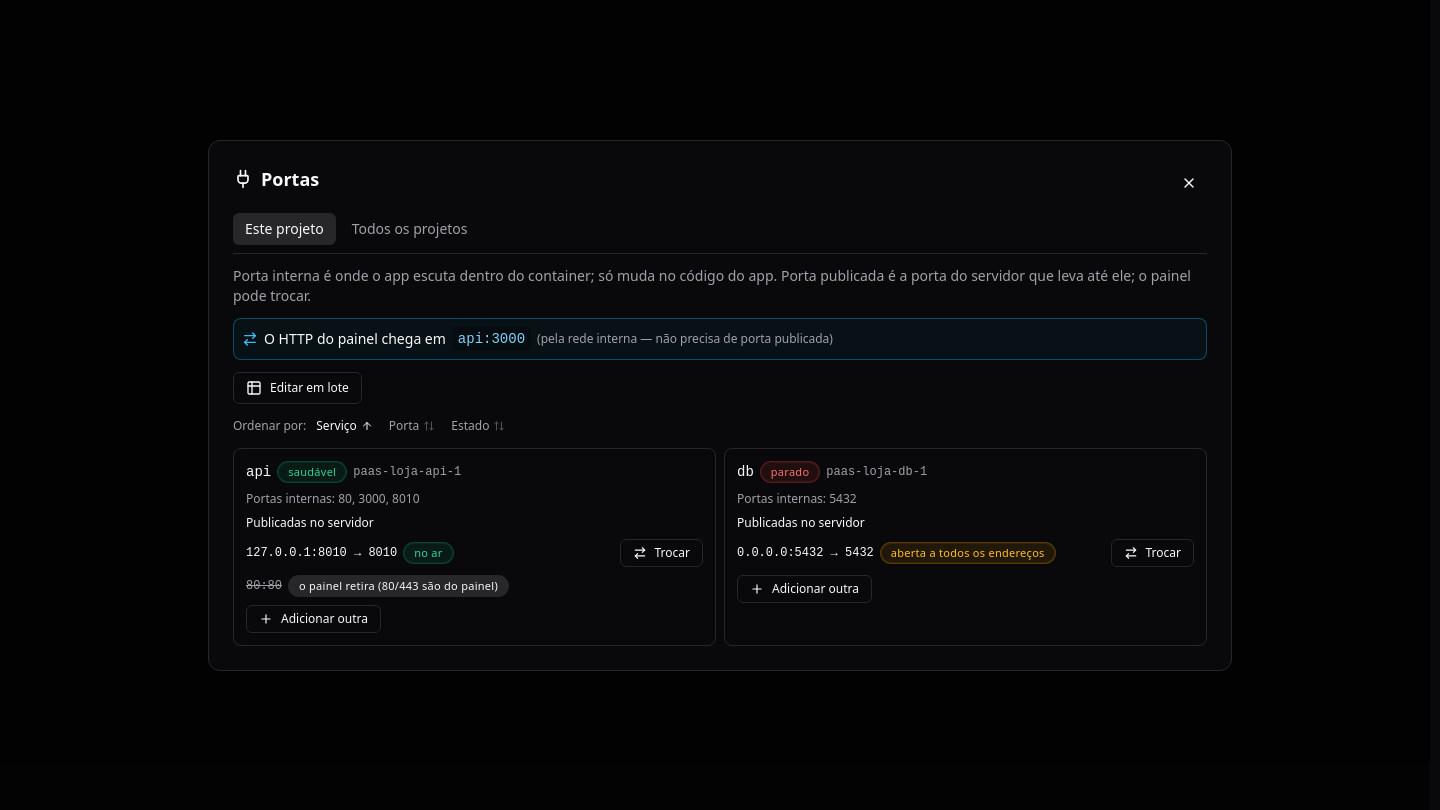
Test case: aba Todos os projetos › ordenação salva é usada ao abrir
Expected: the list item with test id "port-service-api" is shown, [233, 448, 716, 646]
Click the tab "Todos os projetos" at (410, 228), box [340, 212, 480, 244]
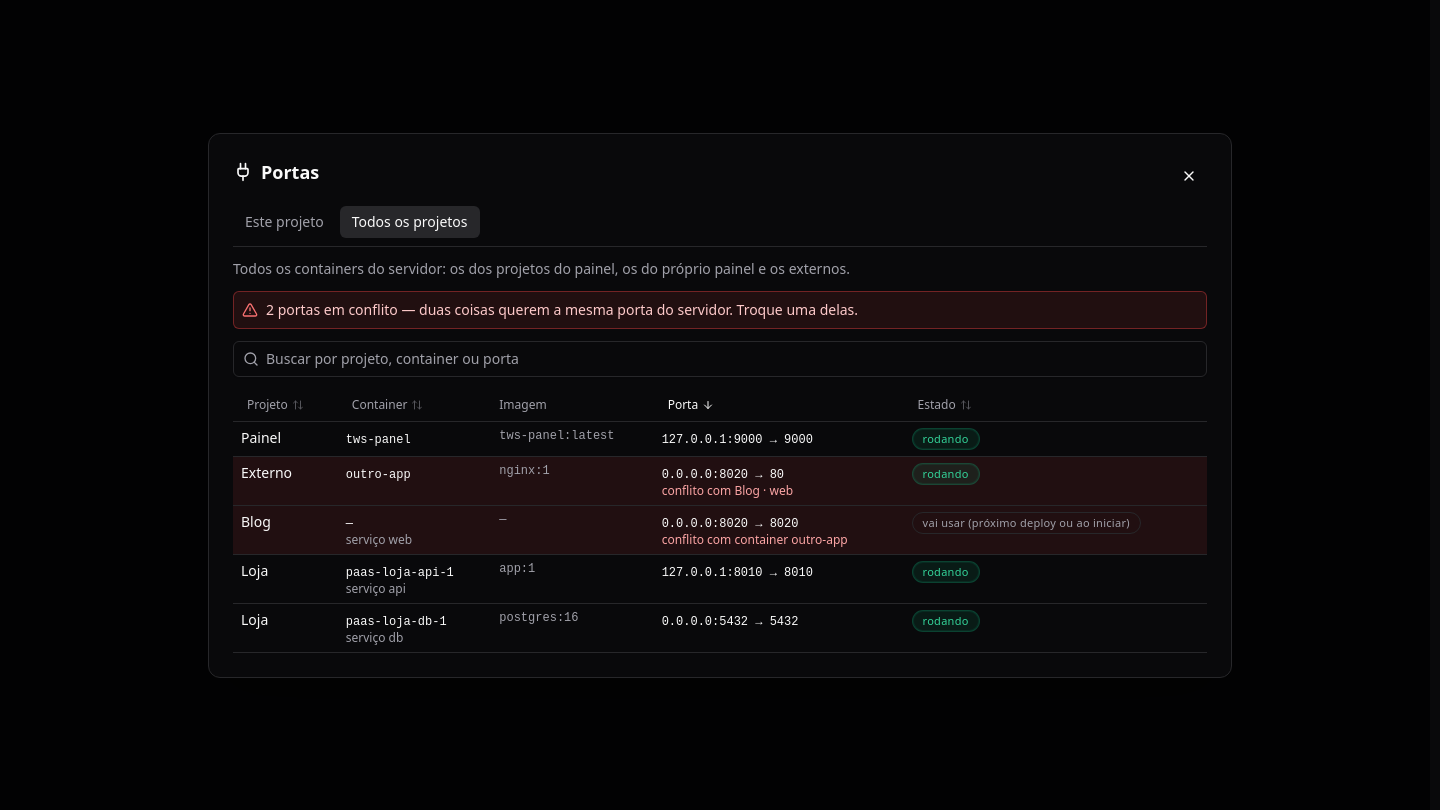
Result: the row that starts with "Painel" shows "9000" at [662, 432, 813, 446]
